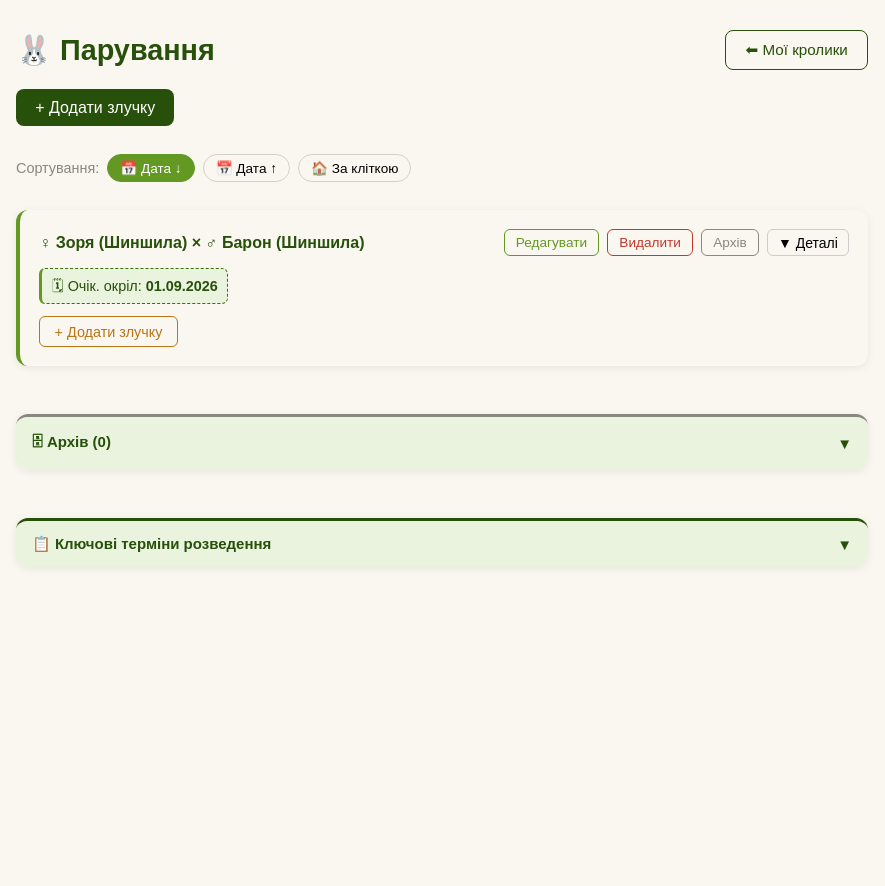
Matings: окріл з відлученням створює клітки відгодівлі › клітку не створено (помилка запису): користувач бачить попередження
Click the button with aria-label "Розгорнути".
click(808, 243)  # box [767, 229, 849, 256]
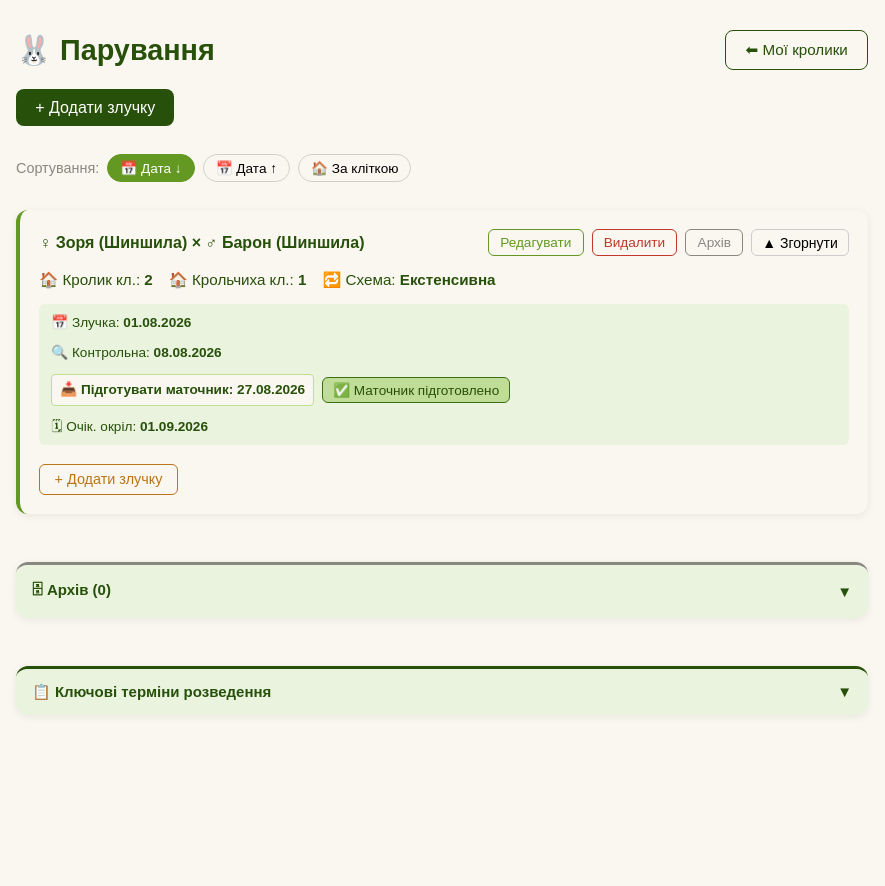
Click the button "+ Додати злучку" below "🗓 Очік. окріл:".
click(109, 479)  # box [39, 464, 178, 494]
(page scrolled)
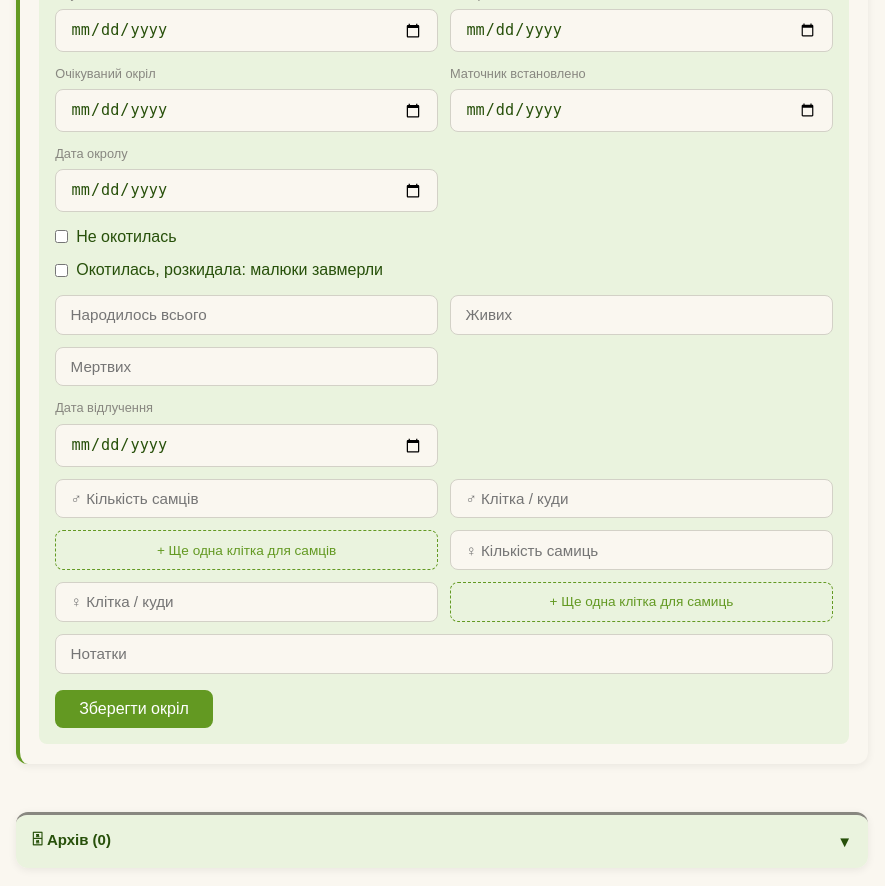
Type "2026-10-01" into the date field with id "litter-add-m1-weaned-date".
click(247, 445); type("2026-10-01")  # box [55, 424, 438, 466]
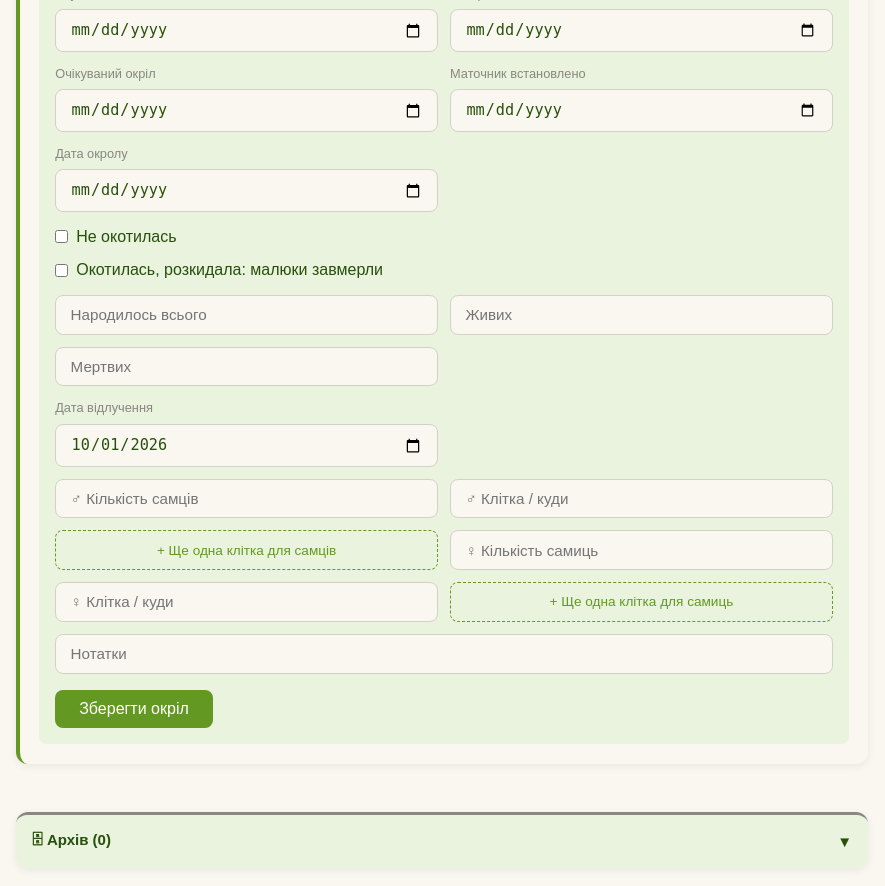
Type "3" into the number field with id "litter-add-m1-weaned-males".
click(247, 498); type("3")  # box [55, 478, 438, 518]
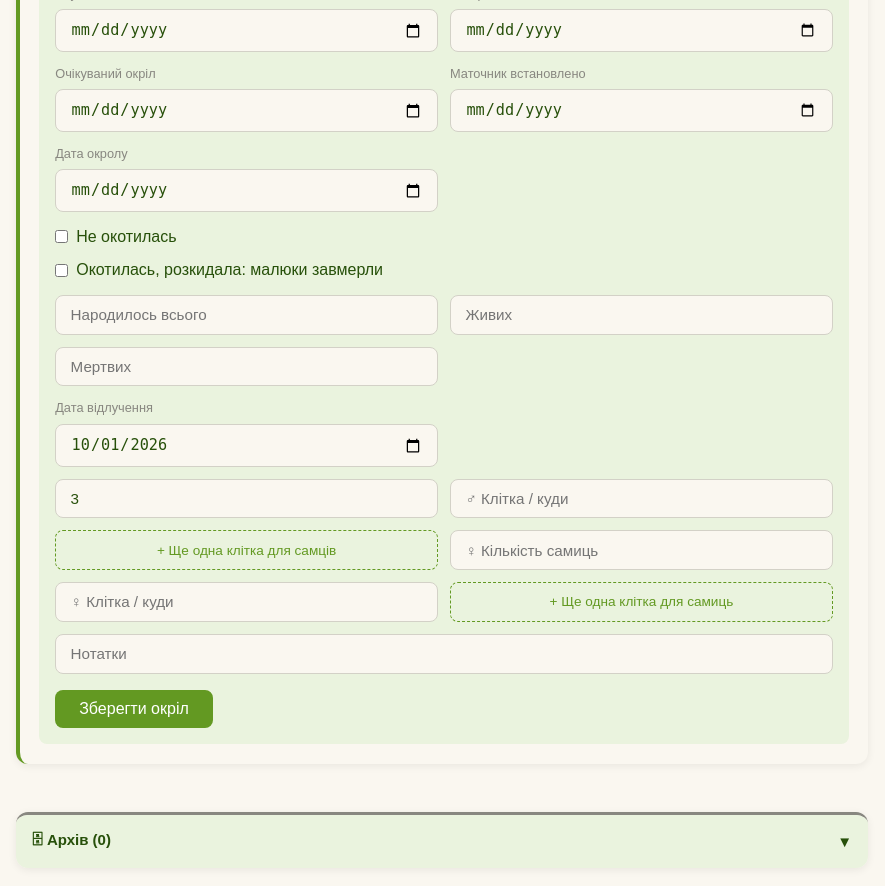
Type "5" into the field with id "litter-add-m1-weaned-males-cage".
click(641, 498); type("5")  # box [450, 478, 833, 518]
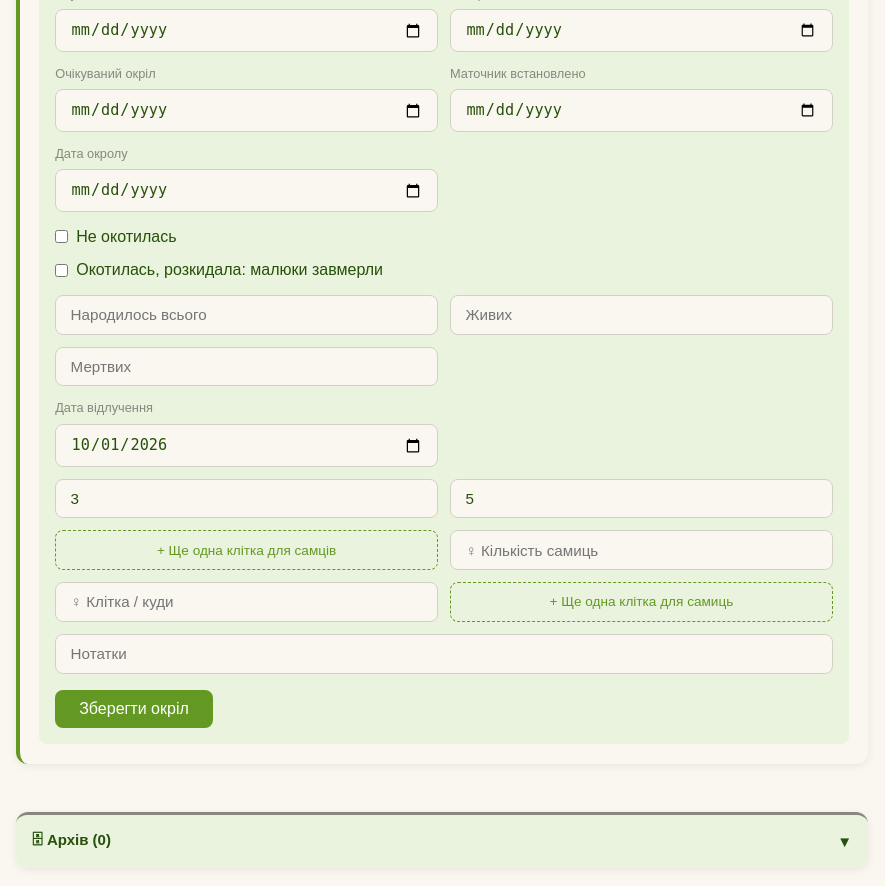
Click the button "Зберегти окріл".
click(134, 709)  # box [55, 690, 213, 728]
(page scrolled)
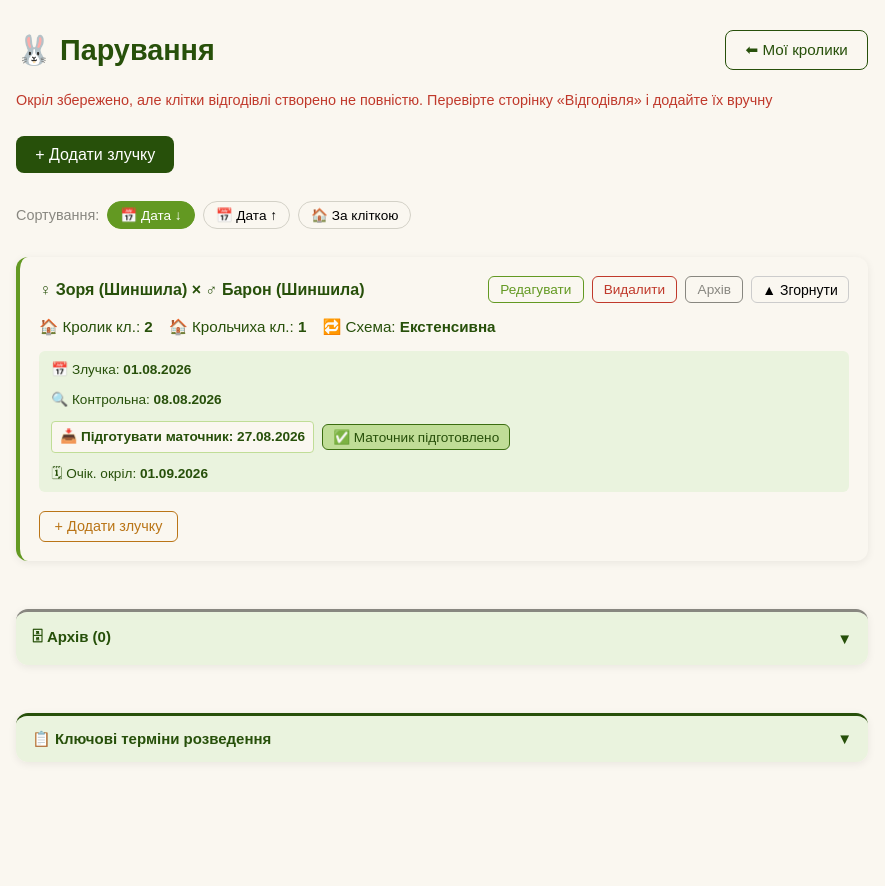
Result: the text "Окріл збережено, але клітки відгодівлі створено не повністю" is shown at [16, 92, 772, 108]
